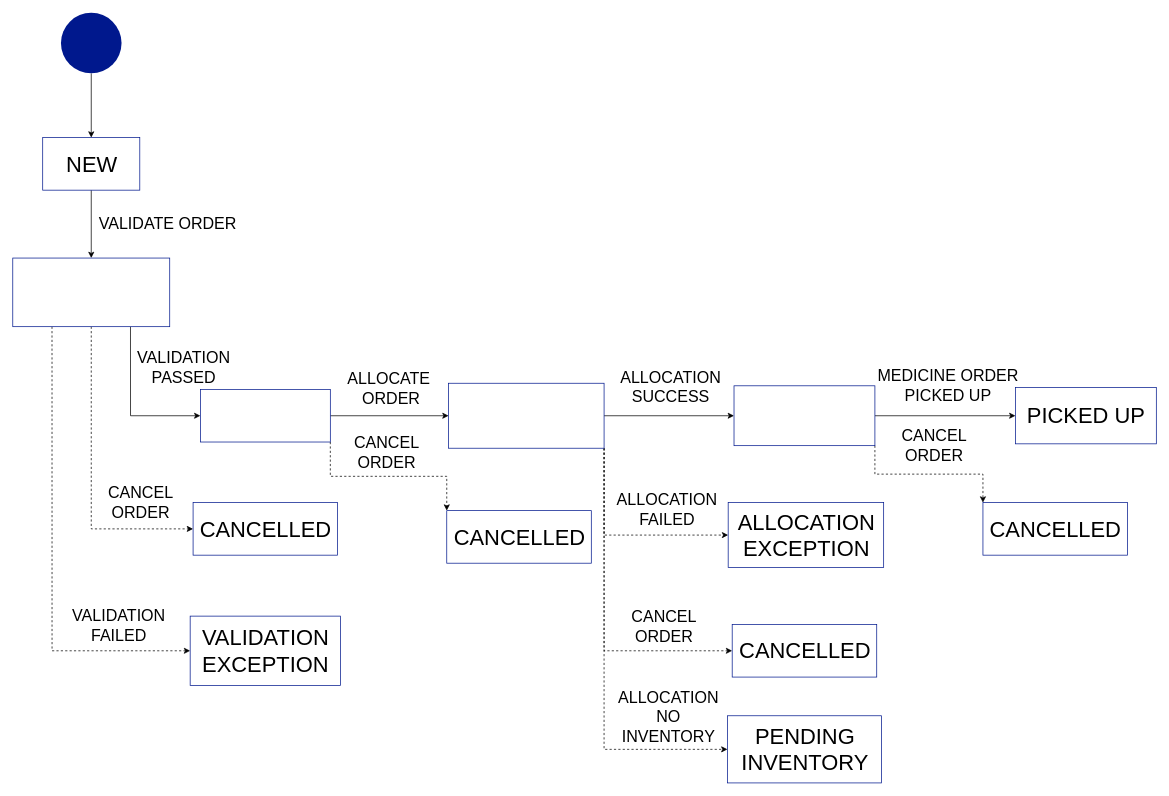
This 1169x796 diagram has some shape labels left out. The shapes that lost their labels are listed below. From the top down, each one's centre as x and y in pixels, then its label:
point (91, 292): VALIDATION PENDING
point (265, 415): VALIDATED
point (526, 415): ALLOCATION PENDING
point (804, 415): ALLOCATED
